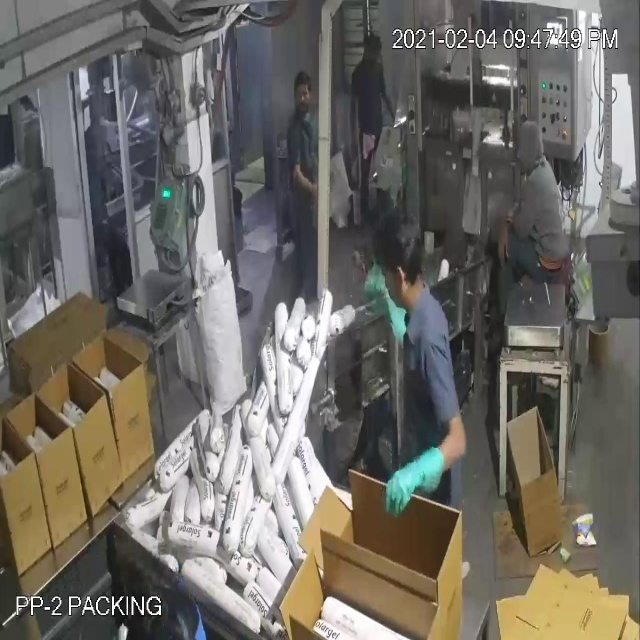Guantes: (382, 437, 447, 529), (356, 260, 411, 353)
Sin_guantes: (486, 201, 523, 270), (289, 156, 326, 205), (378, 68, 405, 134), (346, 72, 363, 160)
